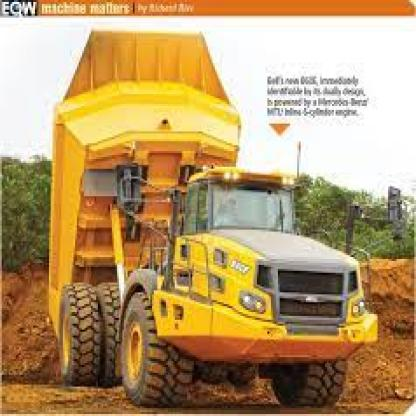dump_truck: (33, 38, 363, 412)
